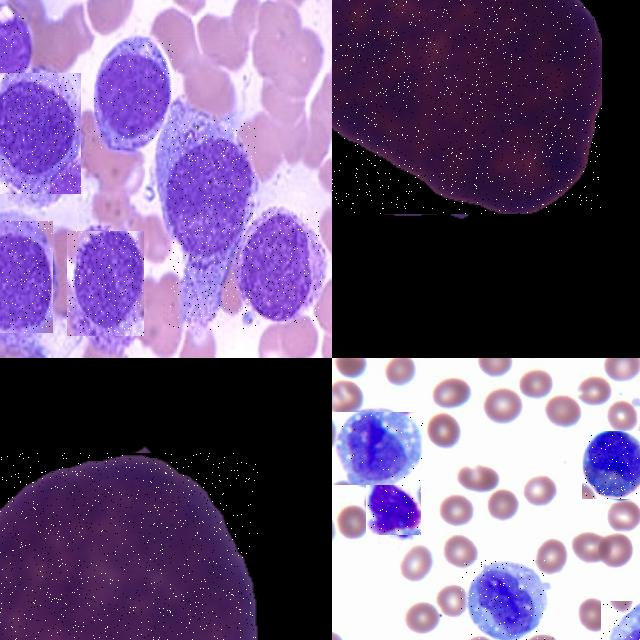ALL Negative Cells: (0, 453, 258, 640)
ALL Positive Cell: (332, 0, 602, 214), (169, 115, 256, 330), (236, 212, 322, 324), (0, 73, 80, 193), (95, 39, 176, 150), (67, 231, 144, 336), (332, 412, 426, 485), (461, 560, 545, 640), (0, 220, 53, 333), (581, 430, 640, 498), (366, 483, 421, 535), (0, 12, 29, 104)
